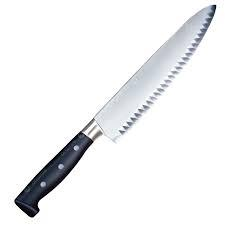Knife: (13, 3, 216, 217)
